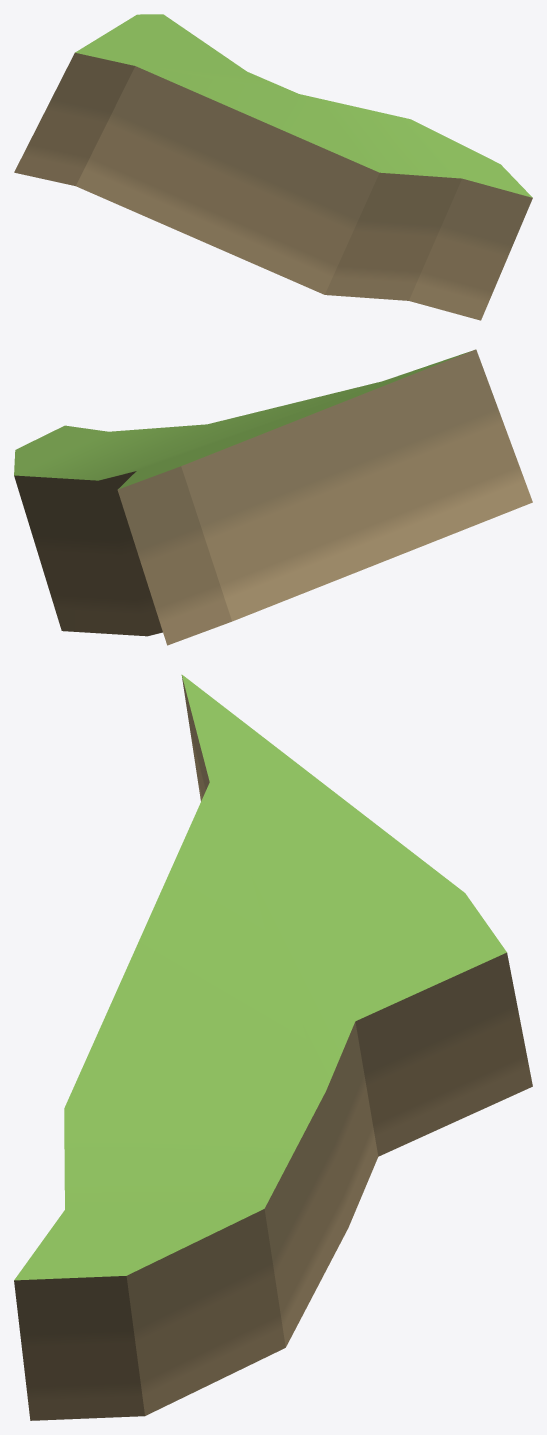
The model's file is 0653_Africa.glb.
3 renders of one model, top to bottom at view 1: azimuth 30°, elevation 25°; view 2: azimuth 150°, elevation 25°; view 3: azimuth 270°, elevation 25°, orthographic. The views are drawn at different scales.
Parts seen in each view (by area): view 1: part_0; view 2: part_0; view 3: part_0.
Part boxes in pixels (bbox=[...]): part_0: bbox=[14, 14, 532, 320]; part_0: bbox=[14, 349, 532, 645]; part_0: bbox=[14, 674, 532, 1420].
Size of the model in its own units: 0.7692 by 0.5066 by 0.4933.
Materials: 1 (1 with a texture image).
